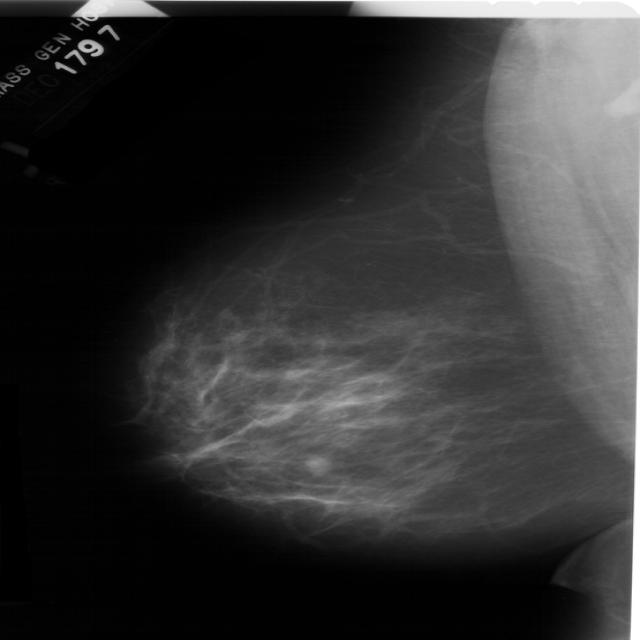tumour: (303, 453, 330, 476)
